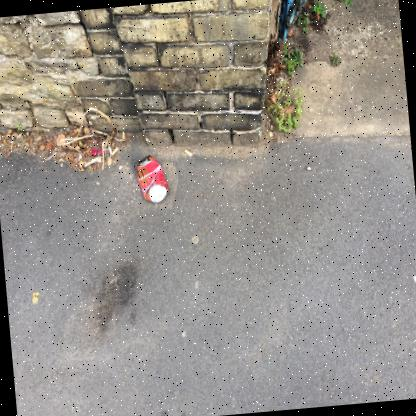Cigarette: (184, 149, 193, 157), (112, 146, 118, 155), (278, 89, 282, 95), (123, 131, 125, 139), (282, 112, 284, 117)
Drink can: (137, 155, 168, 203)
